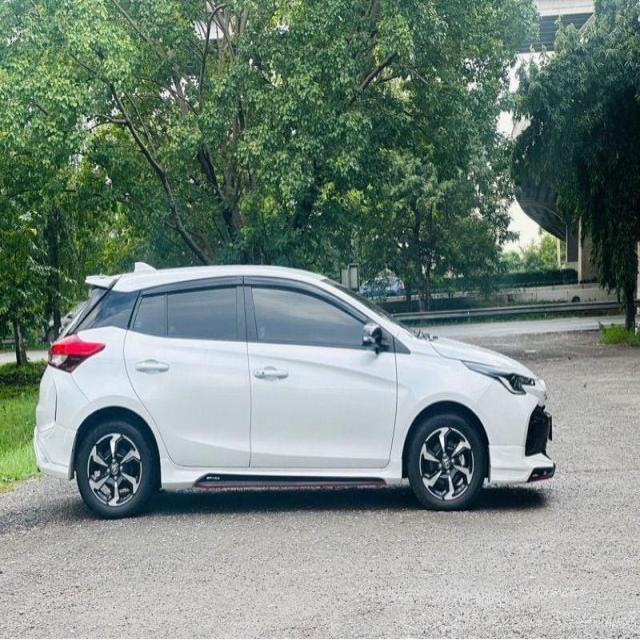Hatchback: (33, 264, 558, 522)
